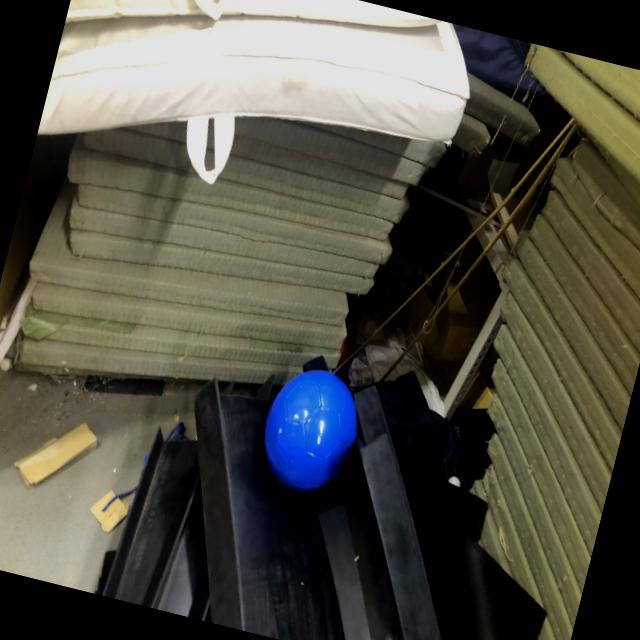blue_ball: (246, 349, 379, 508)
